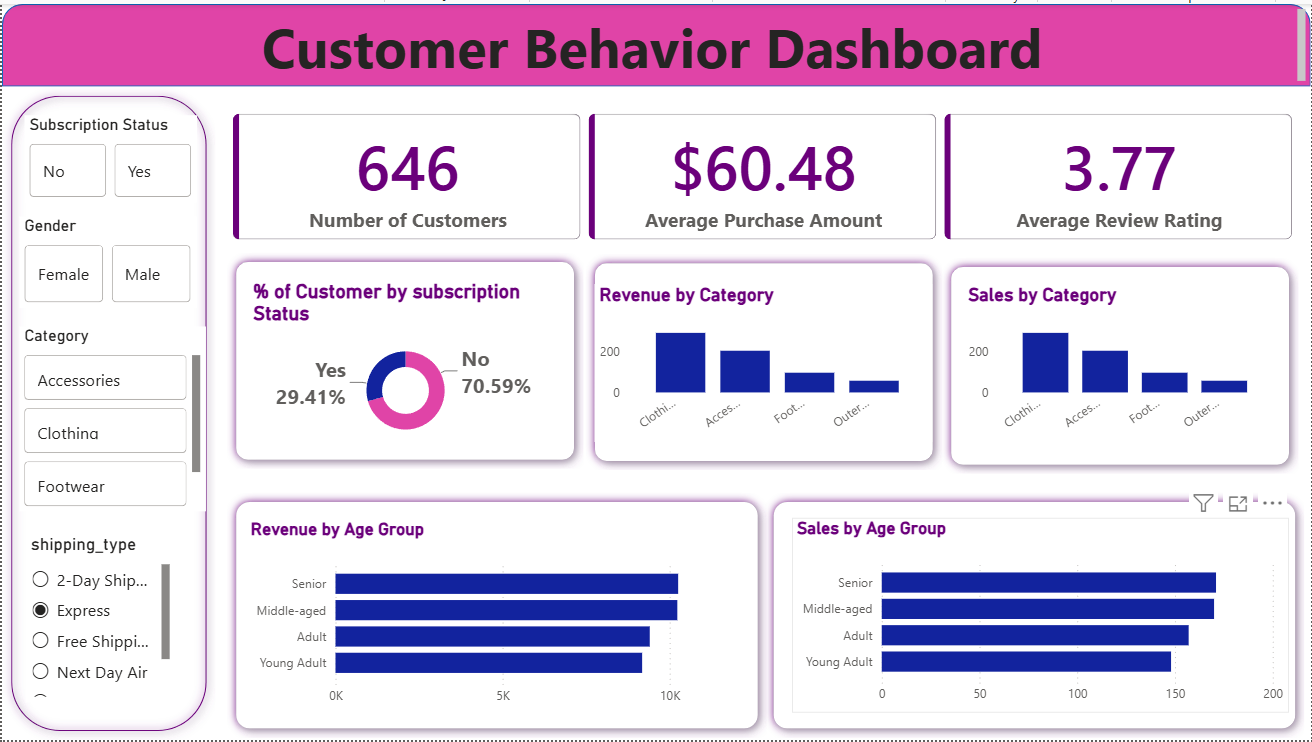

This screenshot's page, from the dashboard's own definition file:
{"tool":"powerbi","page":{"name":"Page 1","canvas":[1280,720],"ordinal":0},"visuals":[{"type":"cardVisual","fields":{"Data":["customer_behavior customer.Number of Customers","customer_behavior customer.Average Purchase Amount","customer_behavior customer.Average Review Rating"]},"box":[209.1,90.5,1071.2,157.7],"z":0},{"type":"shape","box":[0,0,1280.3,80.7],"z":1000},{"type":"textbox","box":[0,0,1280.3,80.7],"z":2000},{"type":"shape","box":[220.1,243.3,348.5,211.6],"z":3000},{"type":"donutChart","title":"% of Customer by subscription Status","fields":{"Category":["customer_behavior customer.subscription_status"],"Y":["CountNonNull(customer_behavior customer.customer_id)"]},"box":[240.9,270.2,308.2,161.4],"z":4000},{"type":"shape","box":[0,80.7,209.1,639.5],"z":5000},{"type":"advancedSlicerVisual","fields":{"Values":["customer_behavior customer.subscription_status"]},"box":[22,108.8,168.8,85.6],"z":6000},{"type":"advancedSlicerVisual","fields":{"Values":["customer_behavior customer.gender"]},"box":[17.1,207.9,173.6,89.3],"z":7000},{"type":"shape","box":[571.1,244.6,348.5,211.6],"z":8000},{"type":"shape","box":[919.6,248.2,348.5,211.6],"z":9000},{"type":"clusteredColumnChart","title":"Revenue by Category","fields":{"Category":["customer_behavior customer.category"],"Y":["CountNonNull(customer_behavior customer.purchase_amount)"]},"box":[579.6,273.9,330.2,154.1],"z":10000},{"type":"clusteredColumnChart","title":"Sales by Category","fields":{"Category":["customer_behavior customer.category"],"Y":["CountNonNull(customer_behavior customer.customer_id)"]},"box":[940.4,273.9,308.2,154.1],"z":11000},{"type":"advancedSlicerVisual","fields":{"Values":["customer_behavior customer.category"]},"box":[17.1,315.5,182.2,181],"z":12000},{"type":"listSlicer","fields":{"Values":["customer_behavior customer.shipping_type"]},"box":[23.2,518.5,146.7,165.1],"z":12001},{"type":"shape","box":[220.1,478.1,528.3,239.7],"z":12003},{"type":"clusteredBarChart","title":"Revenue by Age Group","fields":{"Category":["customer_behavior customer.age_group"],"Y":["Sum(customer_behavior customer.purchase_amount)"]},"box":[238.5,503.8,495.2,190.8],"z":12004},{"type":"shape","box":[745.9,478.1,528.3,239.7],"z":12005},{"type":"clusteredBarChart","title":"Sales by Age Group","fields":{"Category":["customer_behavior customer.age_group"],"Y":["CountNonNull(customer_behavior customer.customer_id)"]},"box":[772.8,502.6,485.5,190.8],"z":12006}]}

Visuals, with their boxes in screenshot pixels (x1, y1, x2, y2), scaled from the page's 1280x720 canvas onto the 1312x742 screenshot:
cardVisual - customer_behavior customer.Number of Customers x customer_behavior customer.Average Purchase Amount: 214:93:1311:256
shape: 0:0:1311:83
textbox: 0:0:1311:83
shape: 226:251:583:469
"% of Customer by subscription Status" donutChart: 247:278:563:445
shape: 0:83:214:741
advancedSlicerVisual - customer_behavior customer.subscription_status: 23:112:196:200
advancedSlicerVisual - customer_behavior customer.gender: 18:214:195:306
shape: 585:252:943:470
shape: 943:256:1300:474
"Revenue by Category" clusteredColumnChart: 594:282:933:441
"Sales by Category" clusteredColumnChart: 964:282:1280:441
advancedSlicerVisual - customer_behavior customer.category: 18:325:204:512
listSlicer - customer_behavior customer.shipping_type: 24:534:174:704
shape: 226:493:767:740
"Revenue by Age Group" clusteredBarChart: 244:519:752:716
shape: 765:493:1306:740
"Sales by Age Group" clusteredBarChart: 792:518:1290:715
